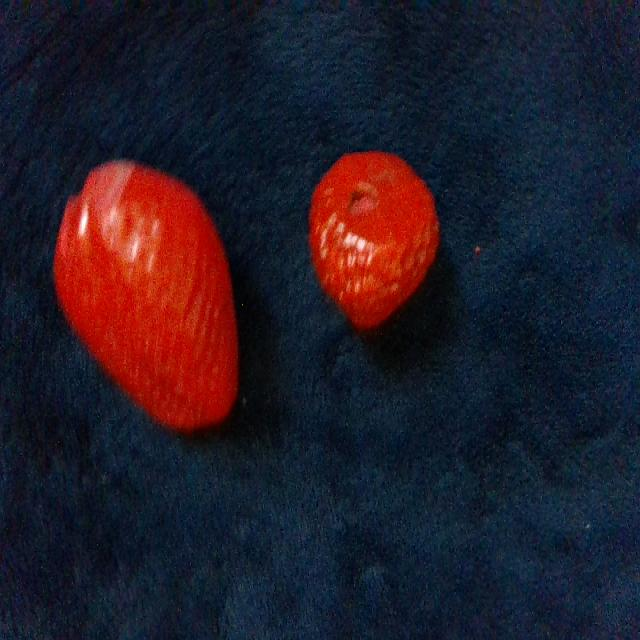chica_roja: (310, 152, 438, 327)
grande_roja: (55, 161, 237, 425)
